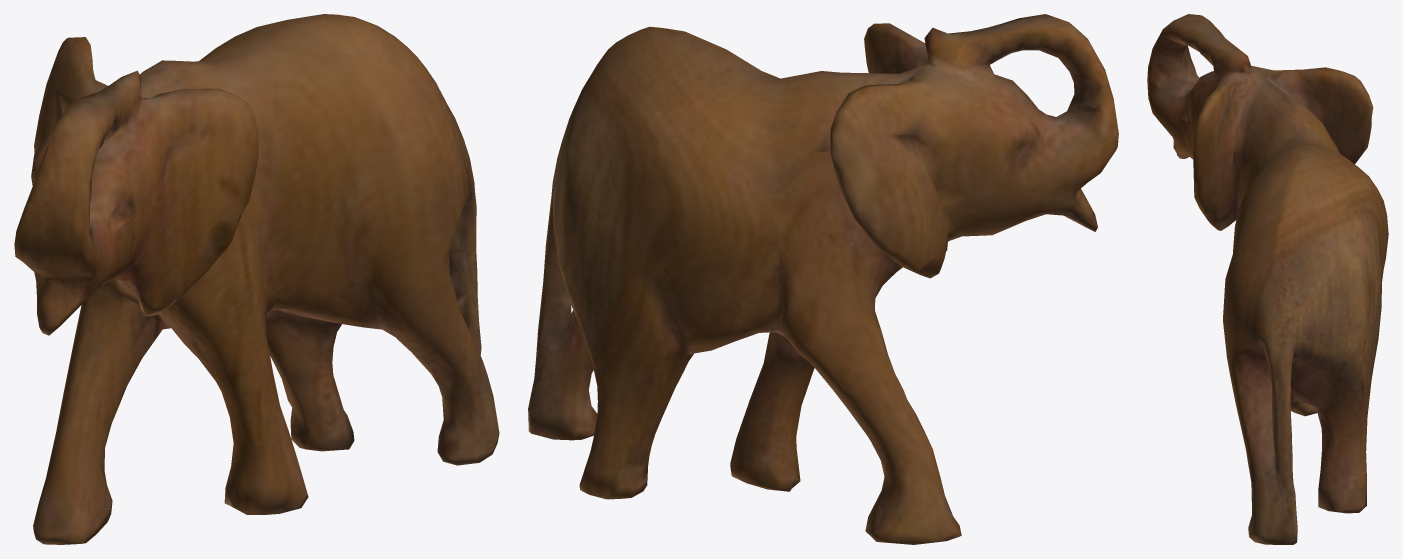
The model's file is carved_wooden_elephant.gltf.
The picture shows the model from 3 angles, left to right: view 1: azimuth 30°, elevation 25°; view 2: azimuth 150°, elevation 25°; view 3: azimuth 270°, elevation 25°; orthographic projection. The views are drawn at different scales.
Visible parts, largest first — view 1: carved_wooden_elephant; view 2: carved_wooden_elephant; view 3: carved_wooden_elephant.
Part boxes in pixels (x1,y1,x2,y2): carved_wooden_elephant: (14,14,499,544); carved_wooden_elephant: (528,14,1118,544); carved_wooden_elephant: (1147,14,1388,544).
Bounding box in the file's own units: 0.1092 × 0.0962 × 0.0576.
1 material, 1 textured.
